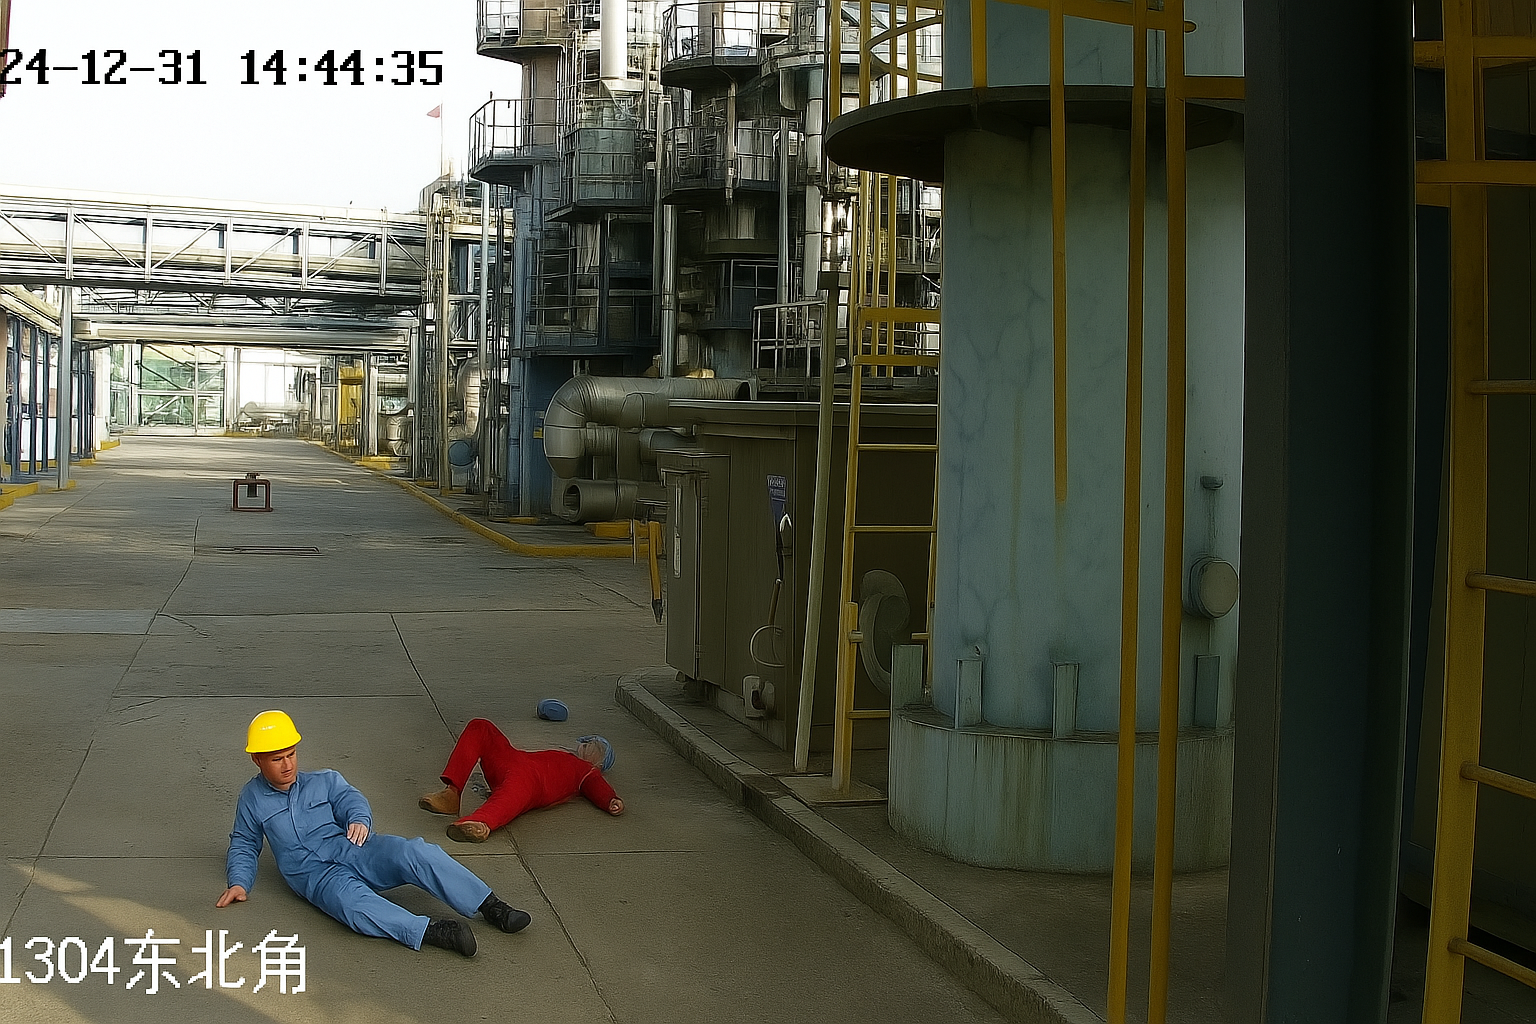trip: (181, 685, 539, 976), (413, 678, 649, 854)
